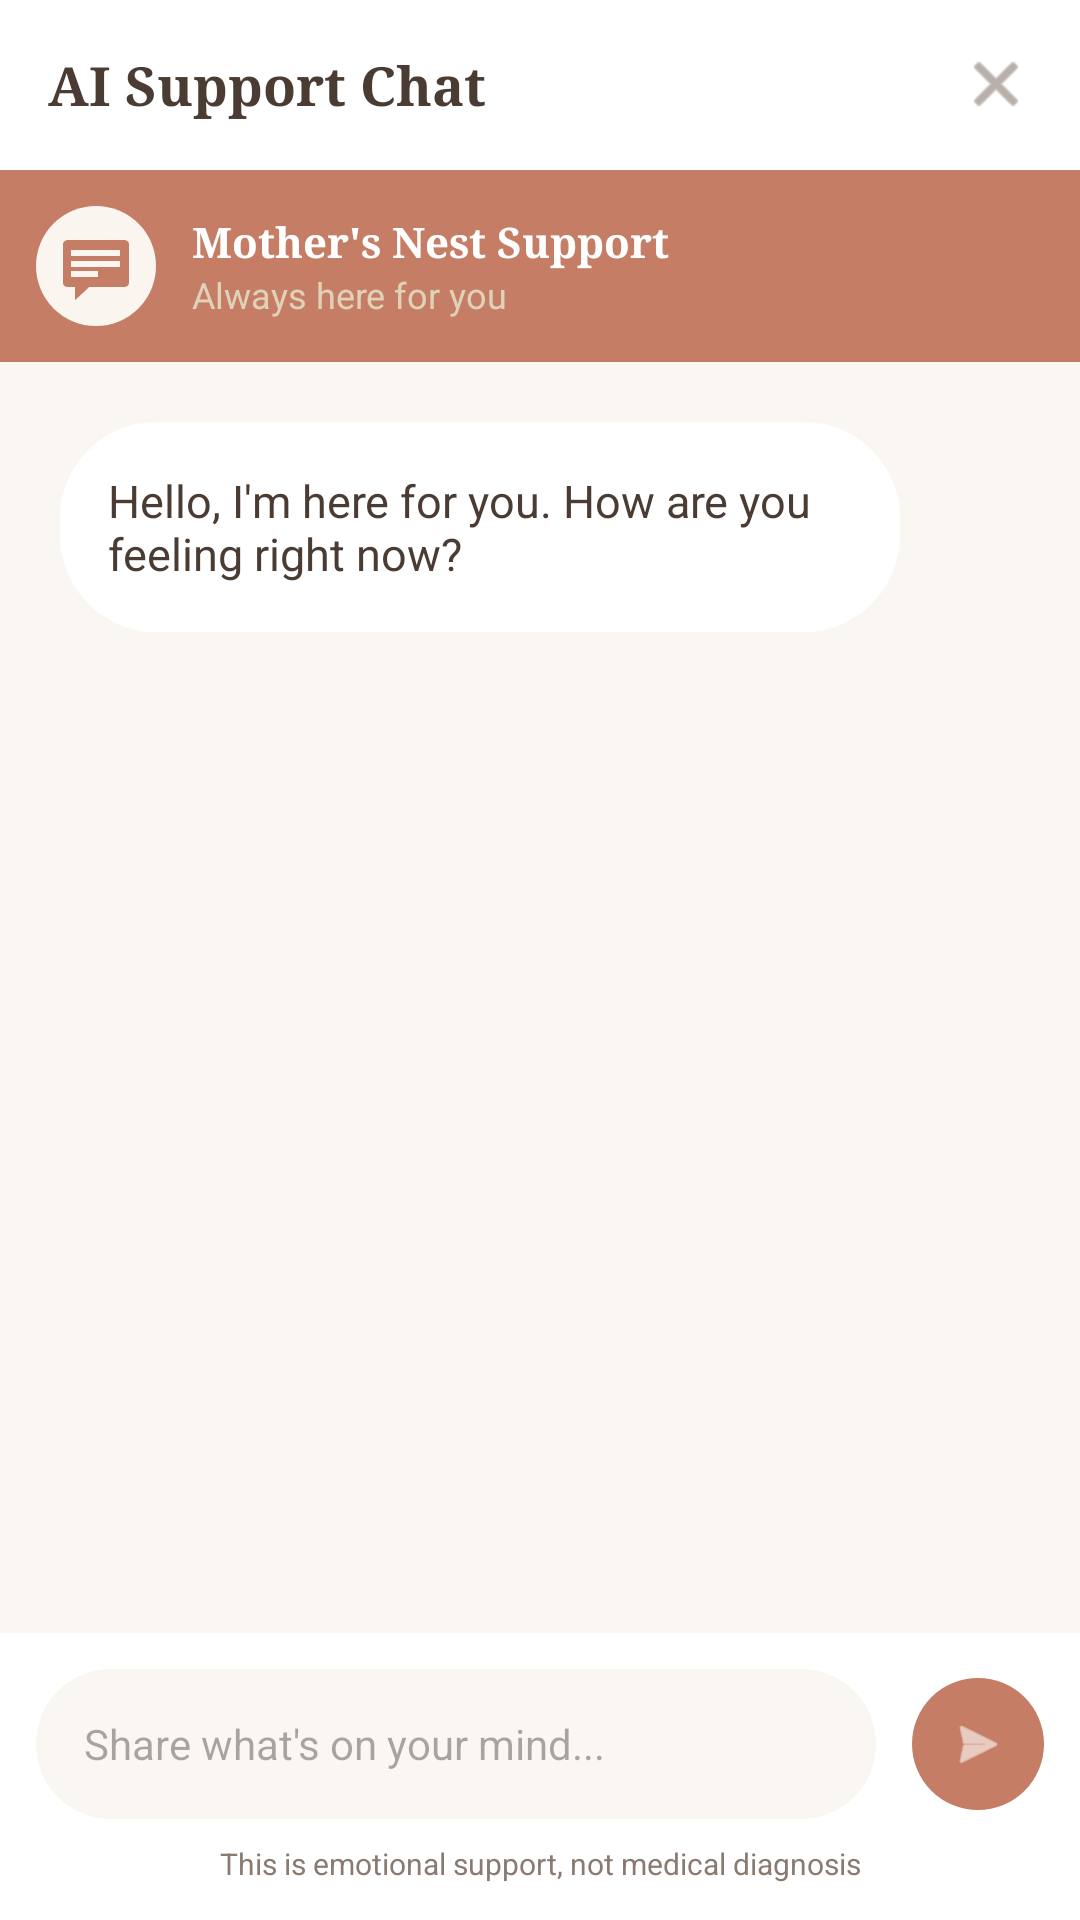

Where icons sit on this 1080 × 1920 app screen, as (left=x1, top=y1, right=x2, bottom=y2):
close clear cancel: (left=974, top=62, right=1018, bottom=106)
send: (left=912, top=1678, right=1044, bottom=1810)
